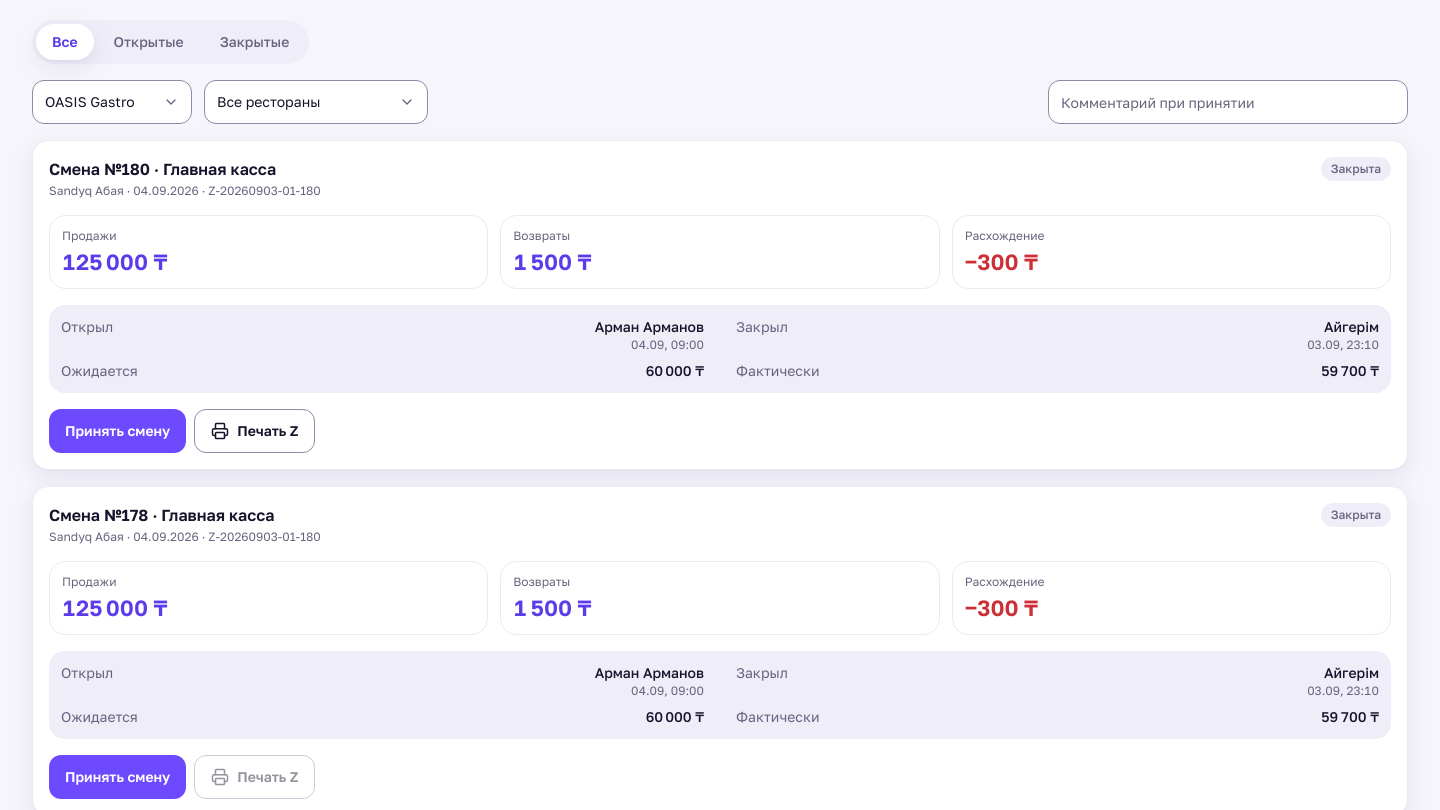
Test case: «Кассовые смены» (W1-RTL-06) › a Z-report outside the scope is not printed; a closed shift without one has an inactive button
Click the button with aria-label "Печать Z · смена №180" at (255, 431), box [194,409,316,453]
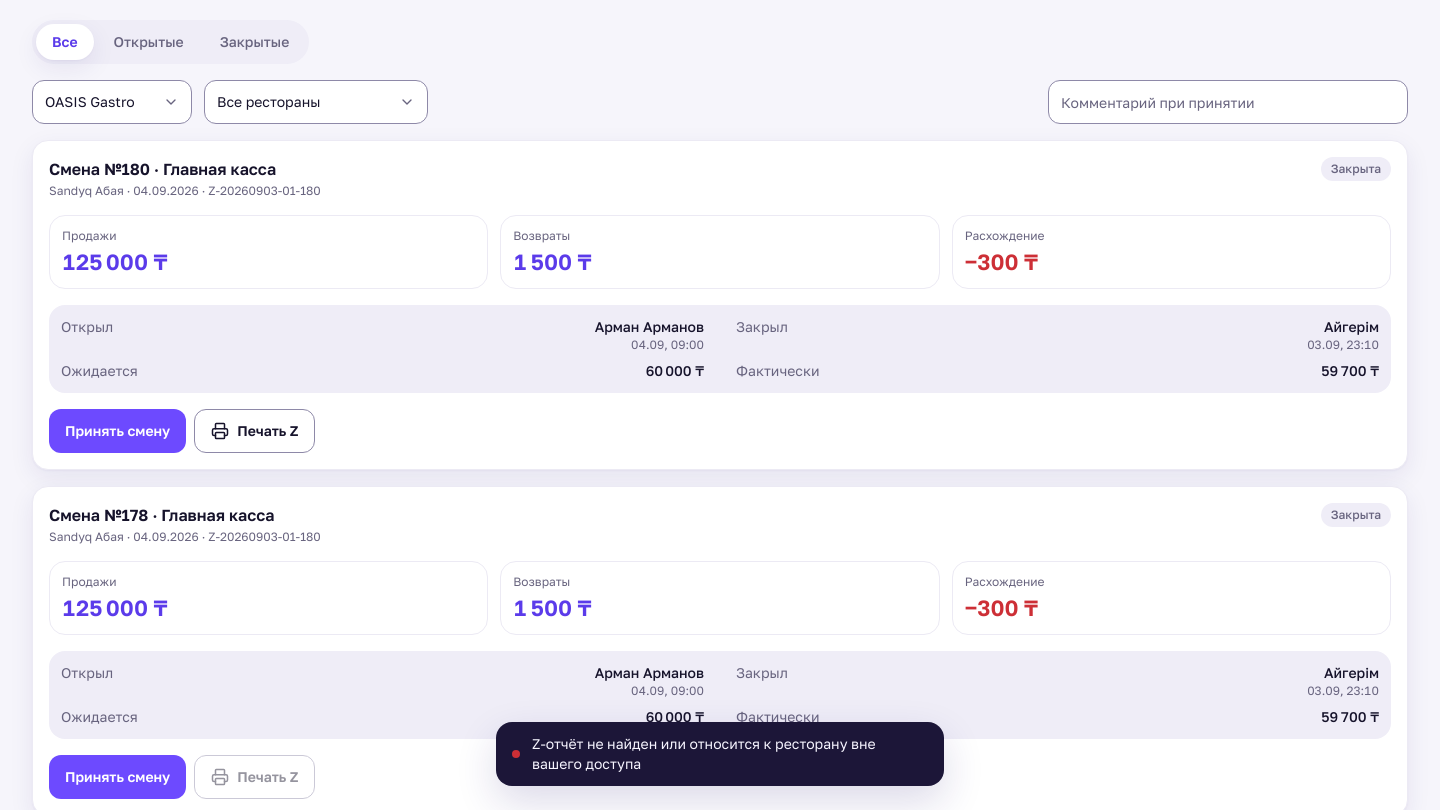
Now the text "Z-отчёт не найден или относится к ресторану вне вашего доступа" is shown, box [496,722,944,786]
